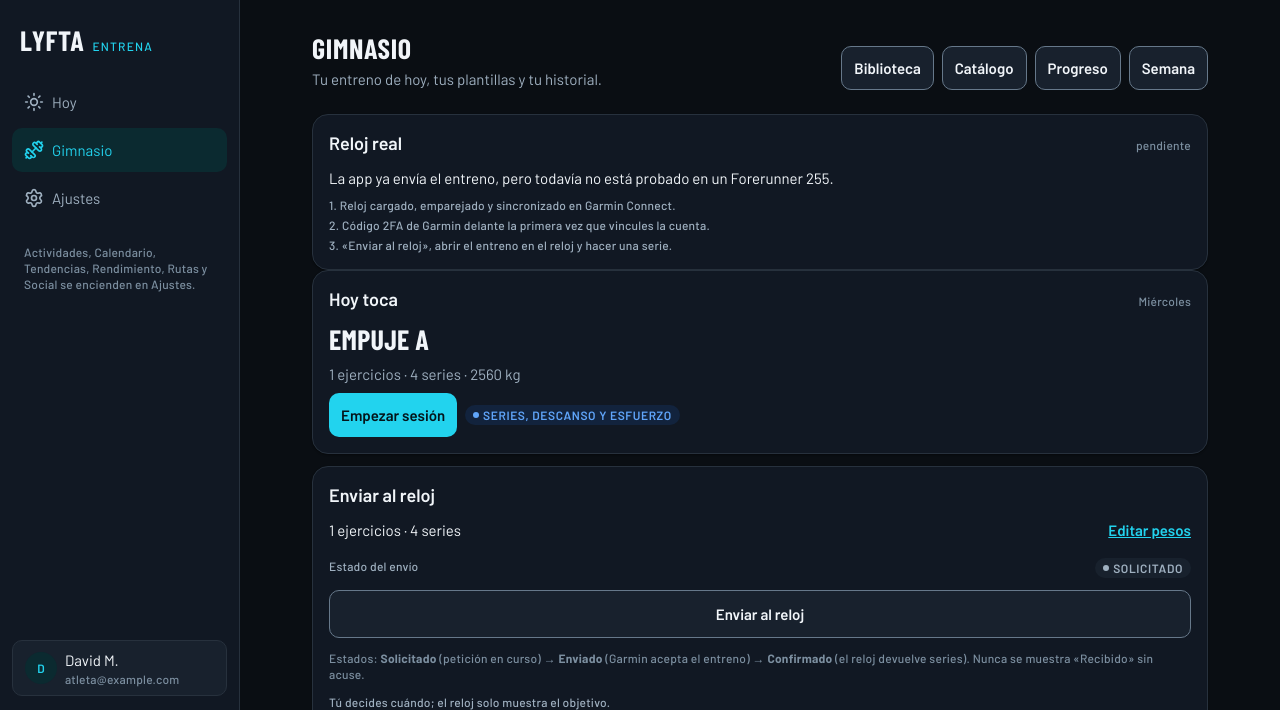
Test: envío de la plantilla al reloj › manda el entreno desde Lyfta y muestra el estado enviado
Check: the text "Solicitado" is shown, box x1=1095 y1=558 x2=1191 y2=578
Click the button "Enviar al reloj" at (760, 614), box x1=329 y1=590 x2=1191 y2=638
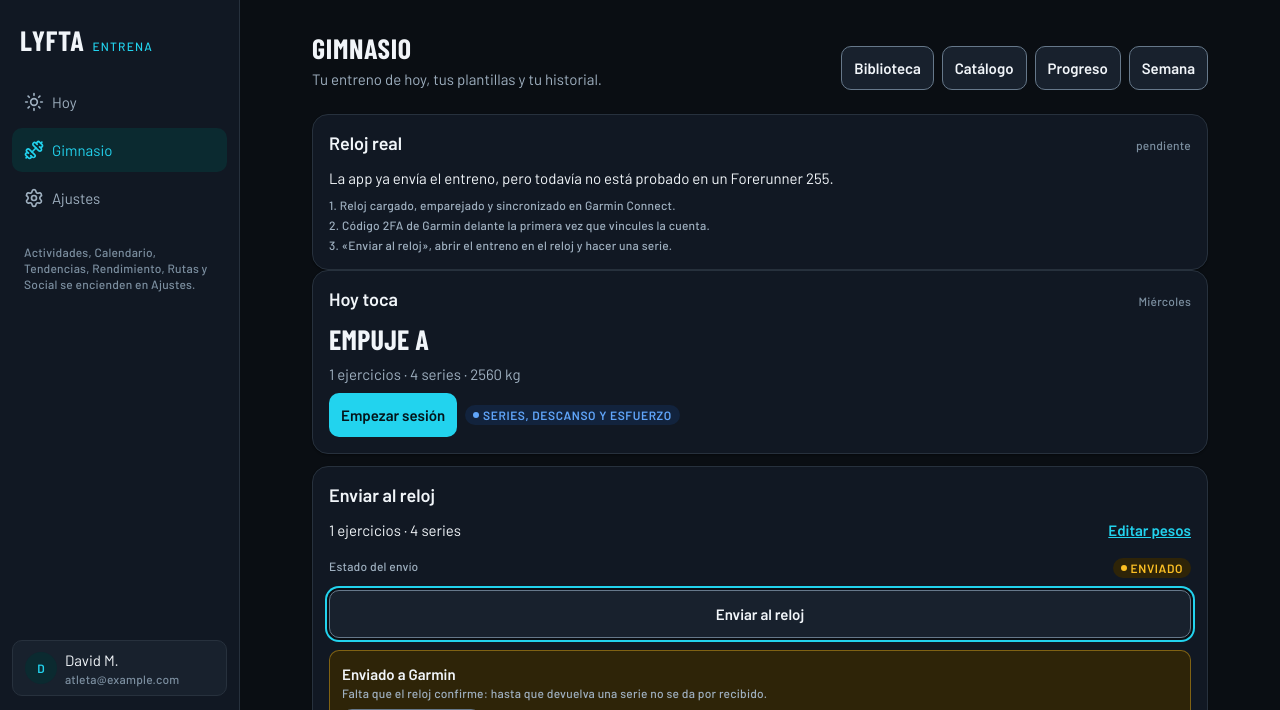
Check: the text "Enviado a Garmin" is shown, box x1=342 y1=665 x2=456 y2=683
Check: the text "Enviado" is shown, box x1=1113 y1=558 x2=1191 y2=578
